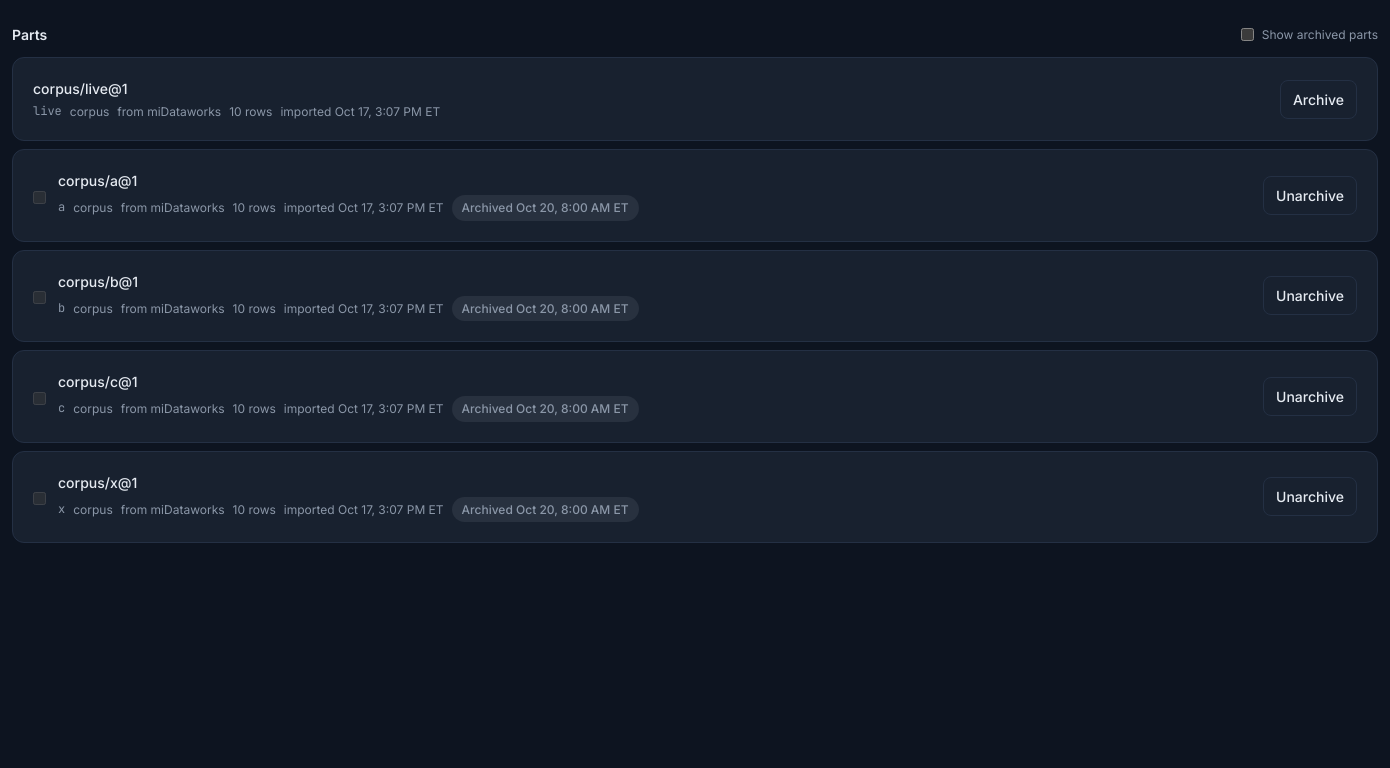
Test case: [PurgeSelection] › should select all, deselect all, and go indeterminate when partly selected
Expected: the list item with test id "part-row-live" is shown, 12,57 -> 1378,141
Click the checkbox with test id "part-show-archived".
click(1247, 34)  # box 1241,28 -> 1254,41
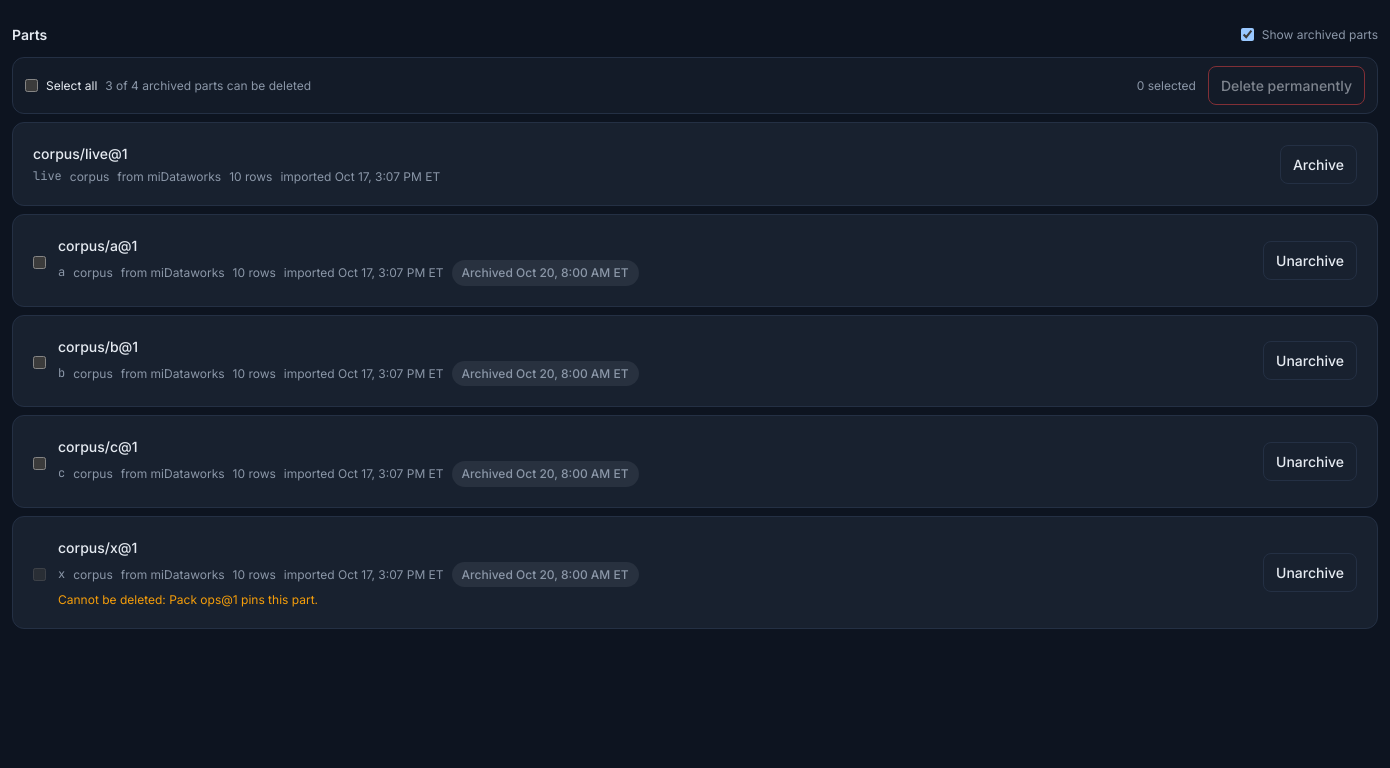
Now the checkbox with test id "part-purge-select-all" is not checked
Now the text with test id "part-purge-select-all-label" reads "Select all", box 46,78 -> 97,93
Now the button with test id "part-purge-delete" is disabled, box 1208,66 -> 1365,105
Click the checkbox with test id "part-purge-select-all".
click(32, 86)  # box 25,79 -> 38,92
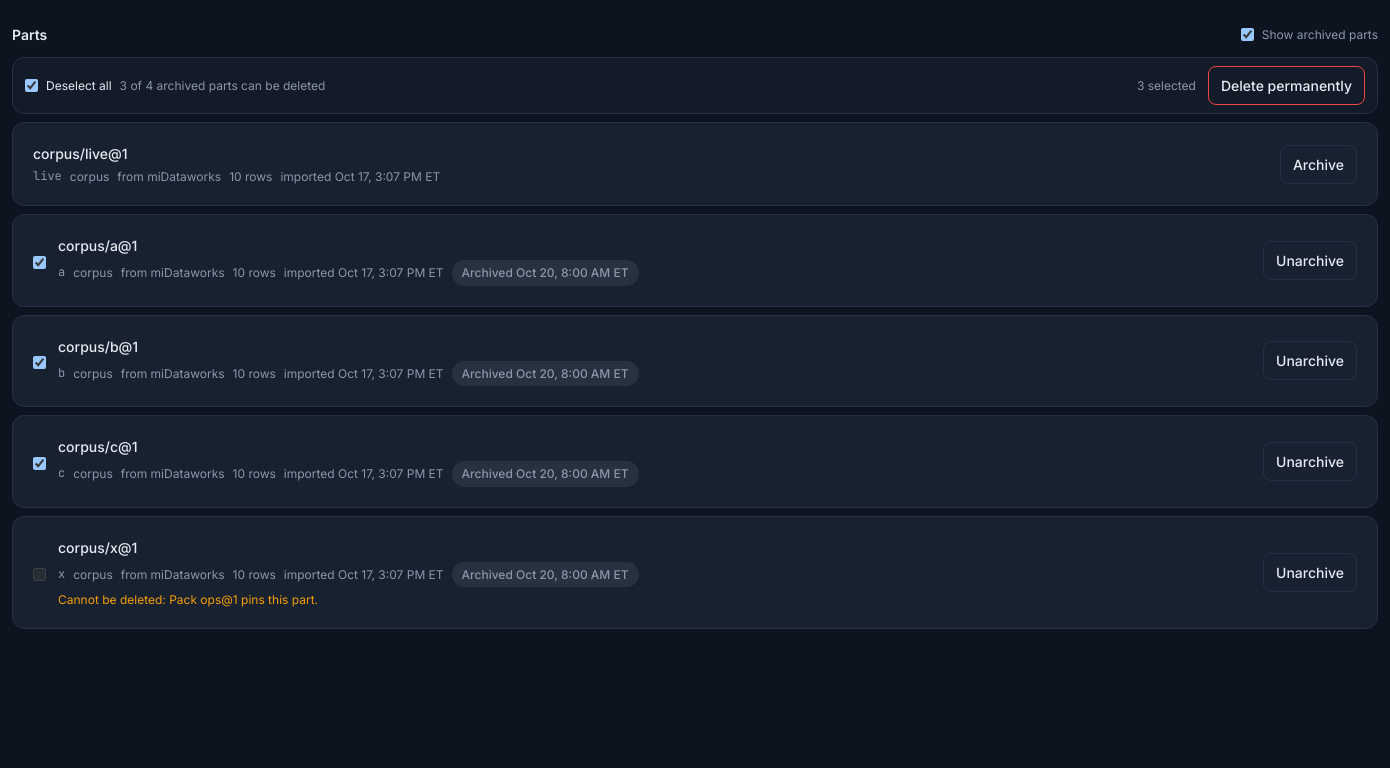
Now the checkbox with test id "part-purge-select-all" is checked, box 25,79 -> 38,92
Now the text with test id "part-purge-select-all-label" reads "Deselect all", box 46,78 -> 112,93
Click the checkbox named "Select corpus/b@1 for permanent deletion".
click(40, 363)  # box 33,356 -> 46,370
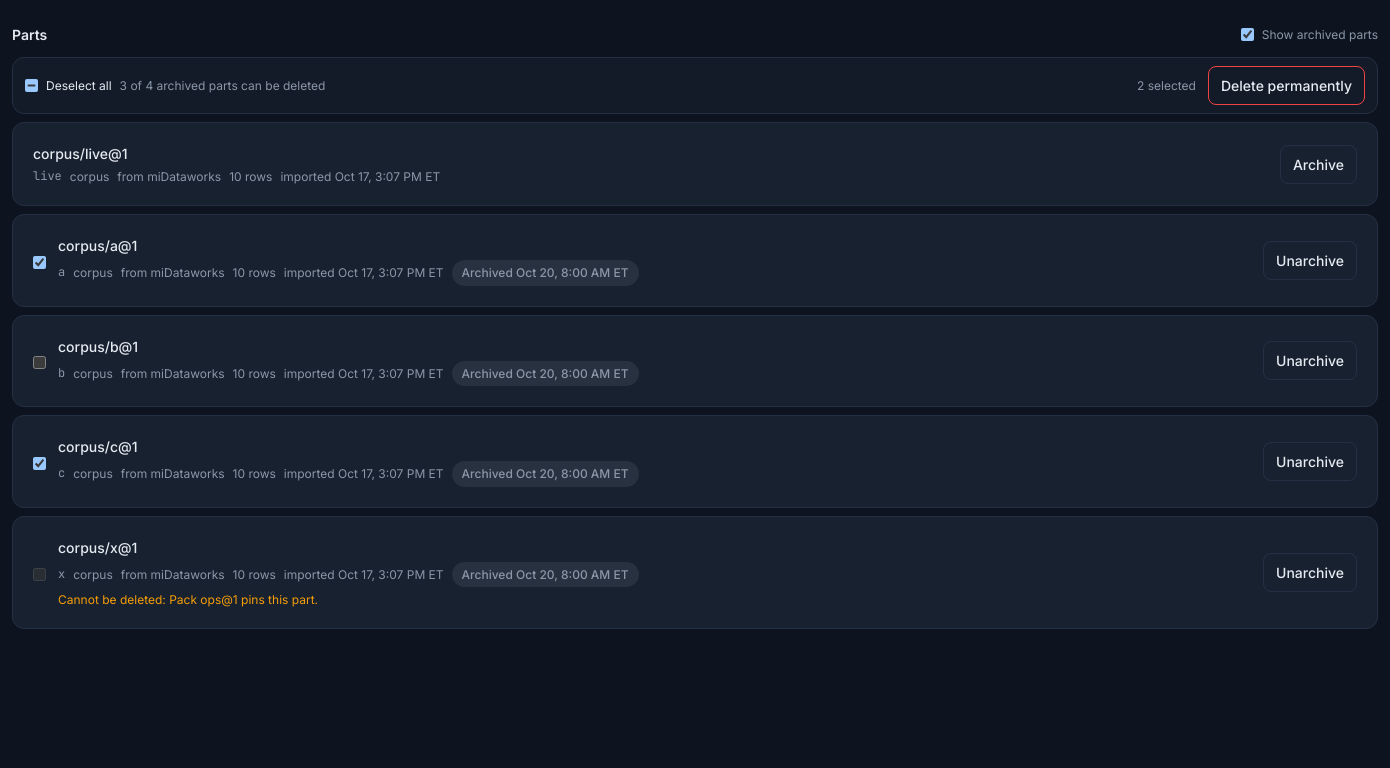
Now the checkbox with test id "part-purge-select-all" is not checked
Now the text with test id "part-purge-count" reads "2 selected", box 1137,78 -> 1196,93
Click the checkbox with test id "part-purge-select-all".
click(32, 86)  # box 25,79 -> 38,92
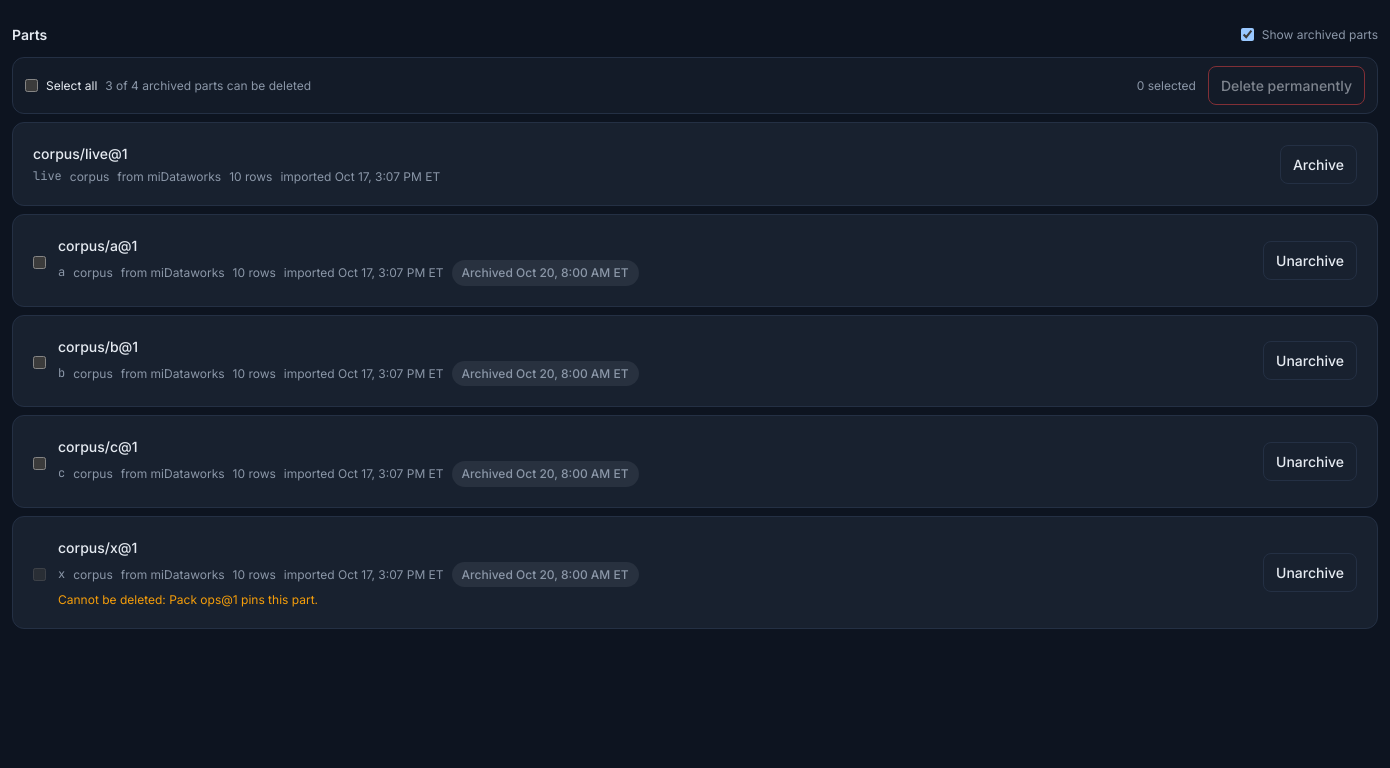
Now the text with test id "part-purge-count" reads "0 selected", box 1137,78 -> 1196,93
Click the checkbox named "Select corpus/c@1 for permanent deletion".
click(40, 463)  # box 33,457 -> 46,470
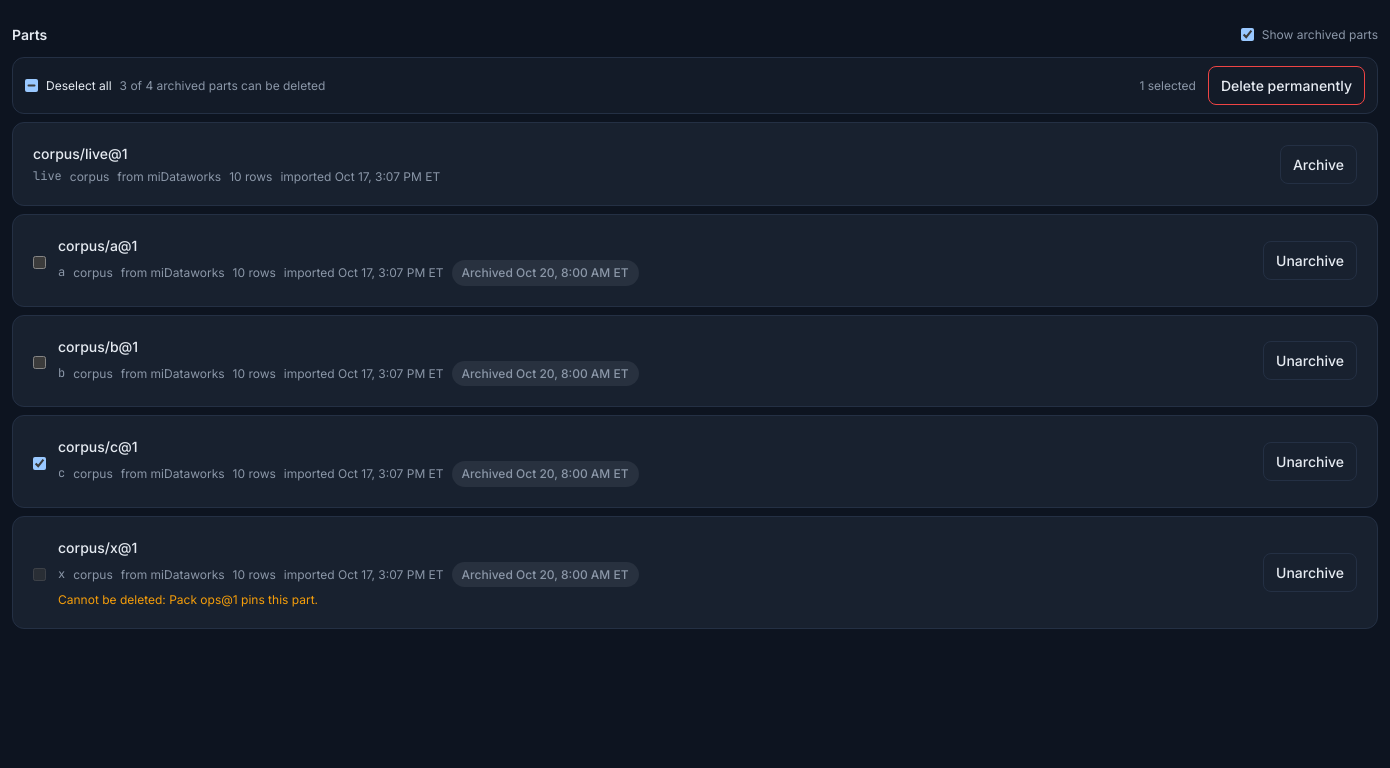
Now the text with test id "part-purge-count" reads "1 selected", box 1140,78 -> 1196,93
Click the checkbox named "Select corpus/c@1 for permanent deletion".
click(40, 463)  # box 33,457 -> 46,470
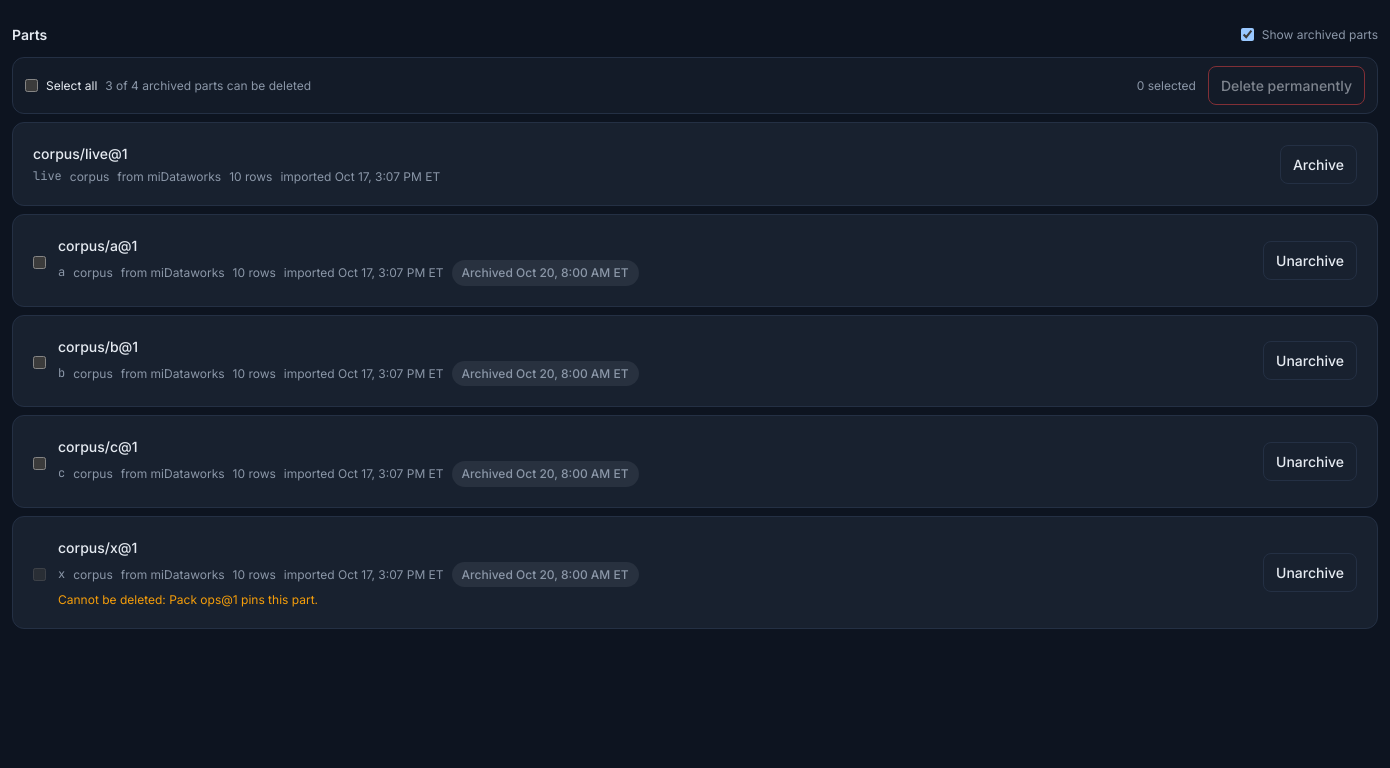
Now the text with test id "part-purge-count" reads "0 selected", box 1137,78 -> 1196,93
